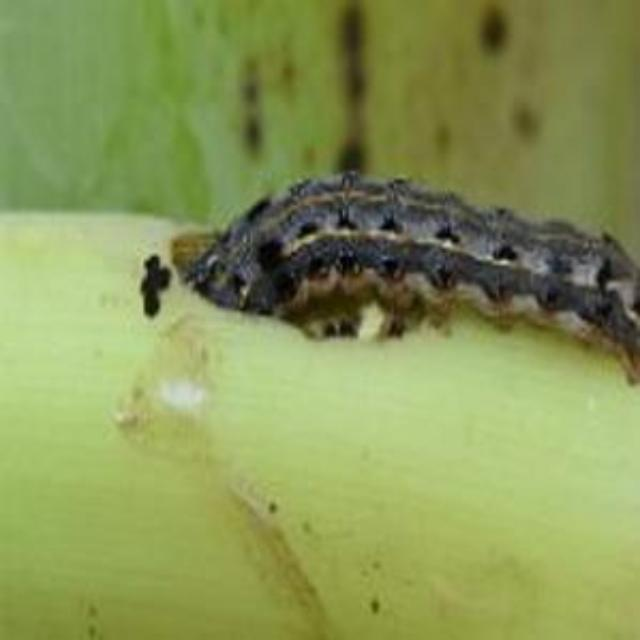Tobacco cutworm: (135, 104, 640, 458)
